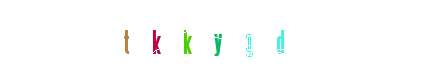D: (226, 0, 306, 80)
G: (178, 0, 258, 80)
K: (115, 0, 195, 80), (146, 0, 226, 80)
T: (90, 0, 170, 80)
Y: (175, 0, 255, 80)
